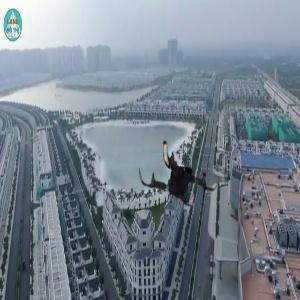drone: (138, 129, 225, 216)
